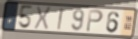5: (17, 5, 35, 30)
6: (106, 11, 120, 33)
9: (71, 9, 86, 32)
I: (57, 7, 65, 31)
P: (85, 9, 105, 34)
X: (33, 6, 53, 31)
